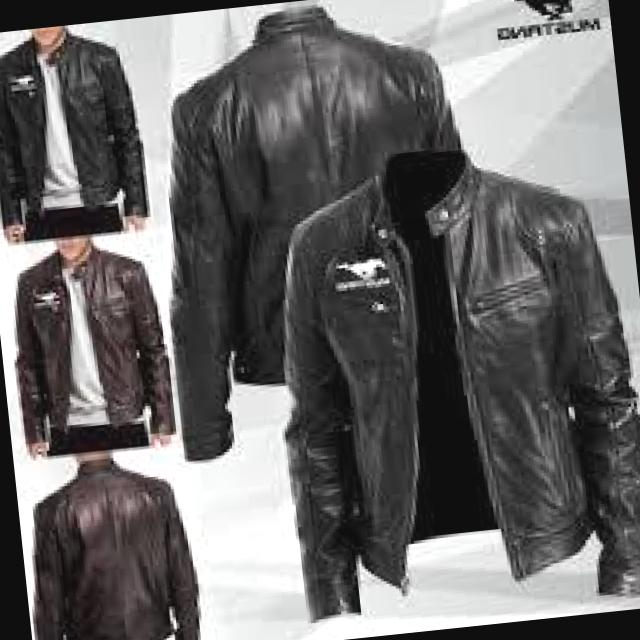jacket: (257, 134, 640, 627), (2, 236, 176, 450), (21, 452, 209, 640), (0, 28, 151, 239)
